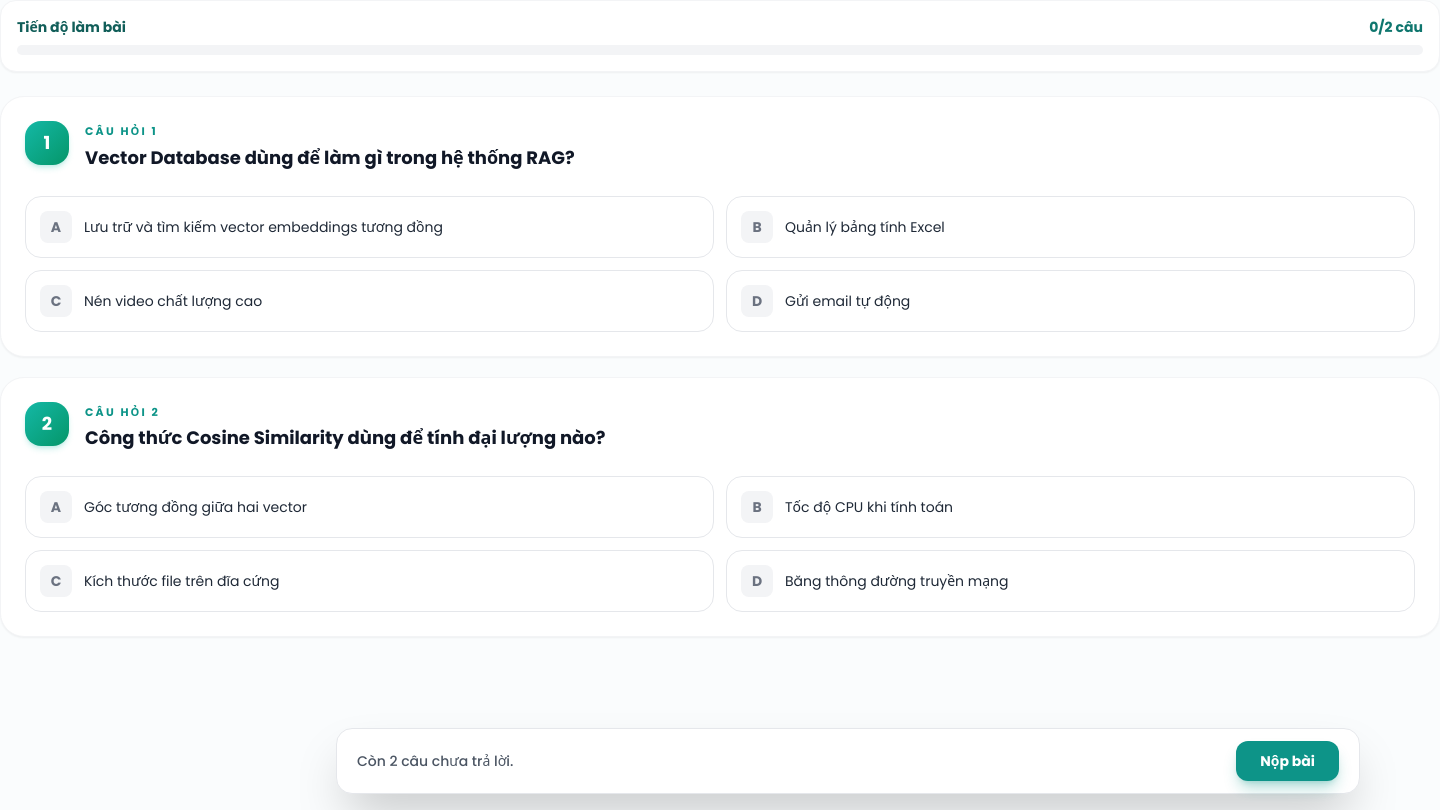
Student Quiz Taking & Review Integration Flow (QuizPlayer) › allows answering all questions and successfully submits with score display
The image size is (1440, 810).
Click the text "Lưu trữ và tìm kiếm vector embeddings tương đồng": click(263, 226) [84,216,443,236]
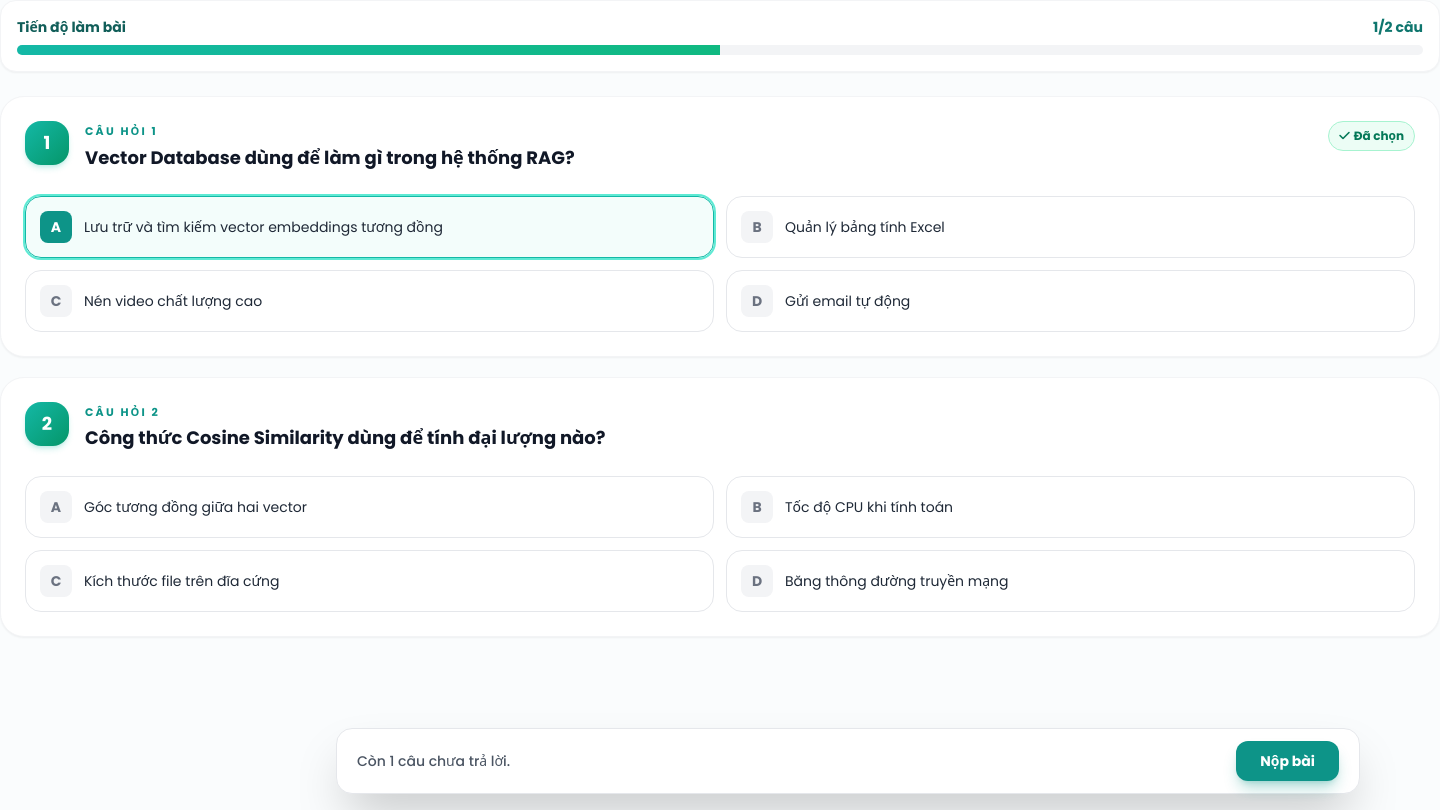
Click the text "Góc tương đồng giữa hai vector": click(196, 507) [84,497,307,517]
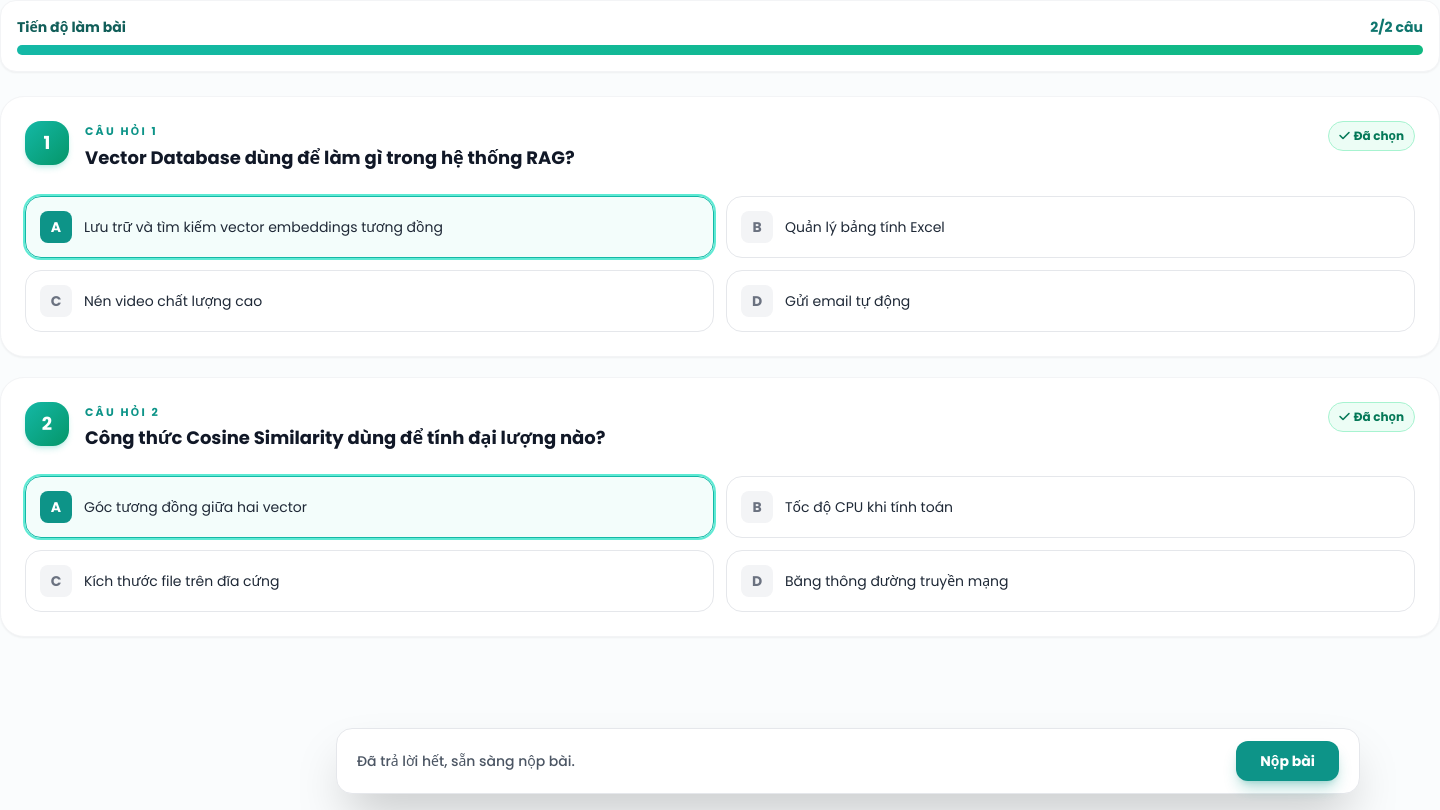
Expected: the text "2/2 câu" is shown, [1370,17,1423,37]
Expected: the text "Đã trả lời hết, sẵn sàng nộp bài." is shown, [357,751,575,771]
Click the button "Nộp bài": click(1288, 761) [1236,741,1339,781]
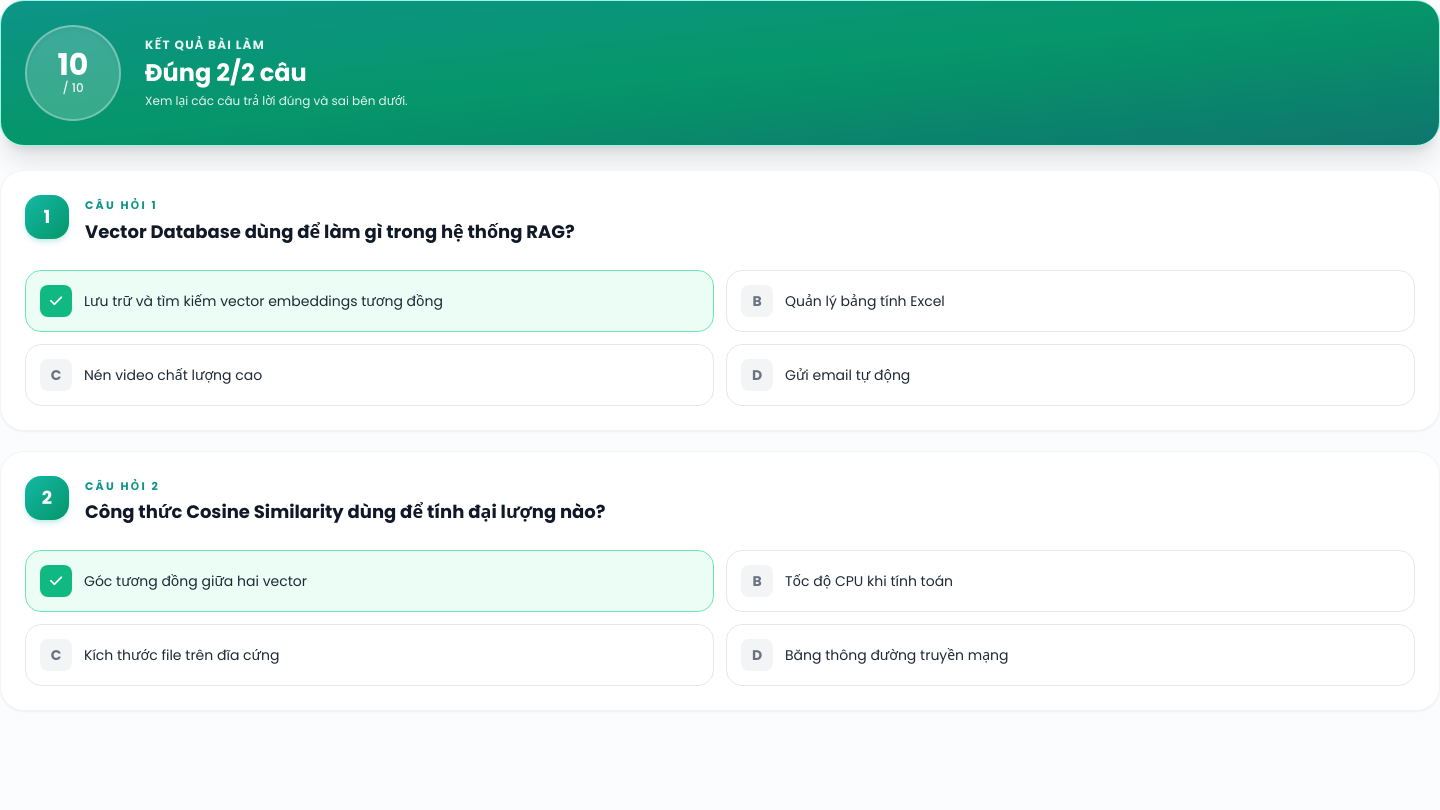
Expected: the text "10" is shown, [58,50,88,80]
Expected: the text "Đúng 2/2 câu" is shown, [145,56,307,89]
